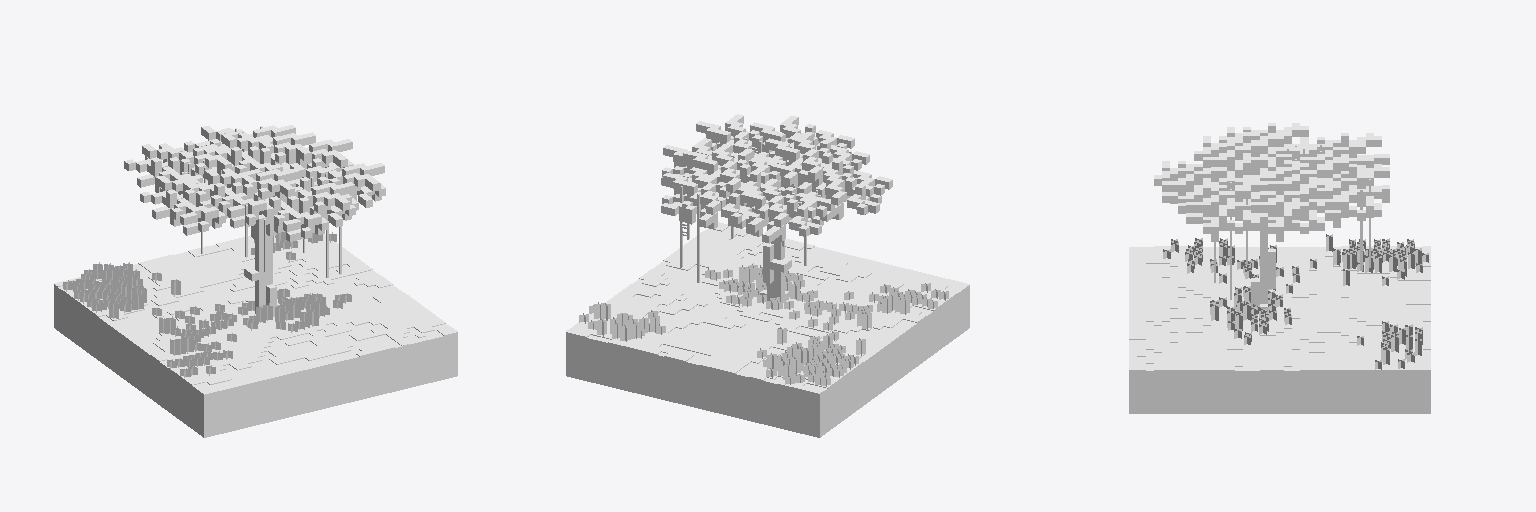
The model's file is Tree.obj.
3 renders of one model, left to right at view 1: azimuth 30°, elevation 25°; view 2: azimuth 150°, elevation 25°; view 3: azimuth 270°, elevation 25°, orthographic.
Parts seen in each view (by area): view 1: discord__-62_57_24_to_-27_255_60; view 2: discord__-62_57_24_to_-27_255_60; view 3: discord__-62_57_24_to_-27_255_60.
Part boxes in pixels (left/top/right/bottom): discord__-62_57_24_to_-27_255_60: left=54, top=125, right=457, bottom=437; discord__-62_57_24_to_-27_255_60: left=566, top=114, right=969, bottom=437; discord__-62_57_24_to_-27_255_60: left=1129, top=123, right=1430, bottom=413.
Bounding box in the file's own units: 36.24 × 26 × 37.